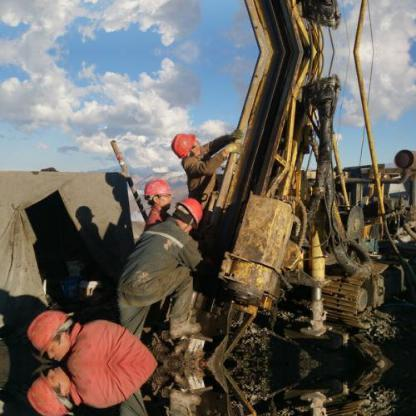Helmet: (19, 301, 86, 355), (19, 370, 87, 414), (168, 195, 206, 232), (140, 177, 172, 209), (170, 132, 199, 160)
